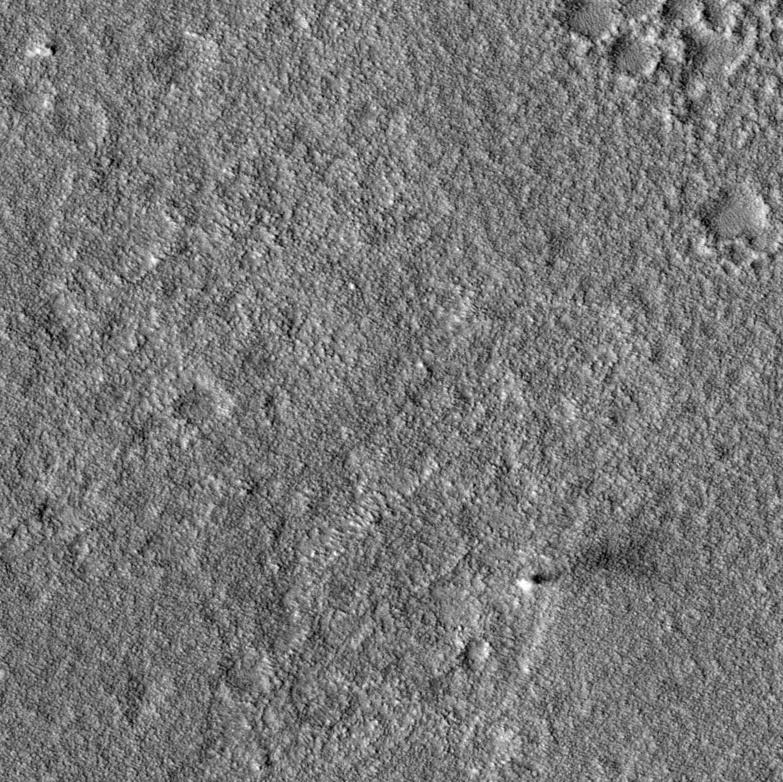dust_devil: (514, 528, 662, 596)
